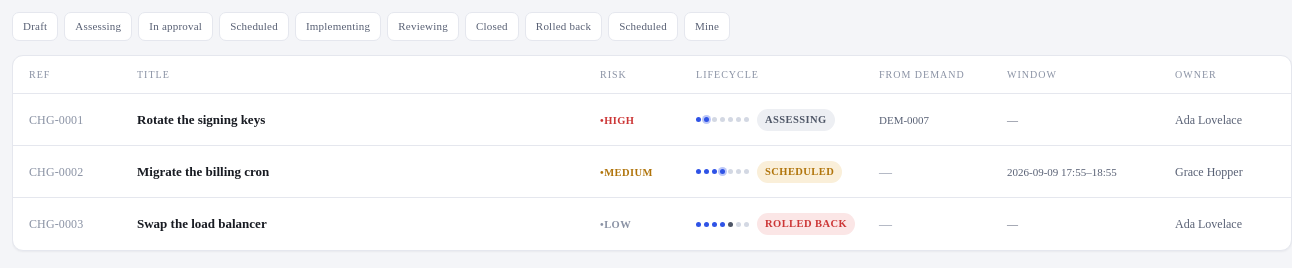
Scenario: the Mine chip filters to the viewer's own changes and pushes ?mine=true
Click the button "Mine" at (707, 26), box [684,12,730,40]
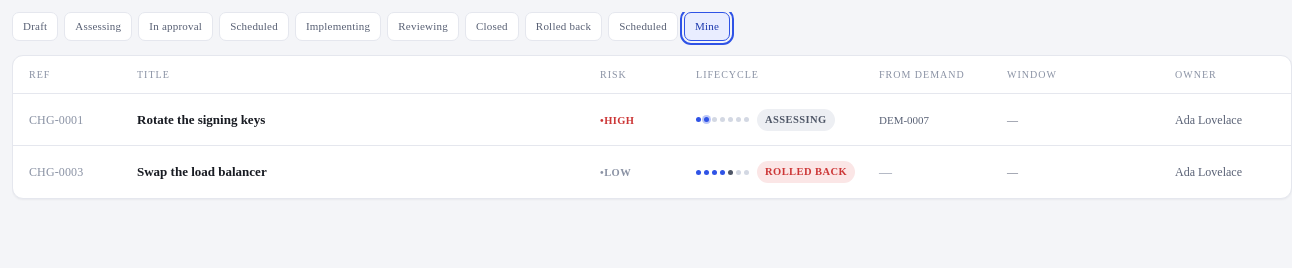
Expected: the text "Rotate the signing keys" is shown, [137,112,265,127]
Expected: the text "Migrate the billing cron" is gone
